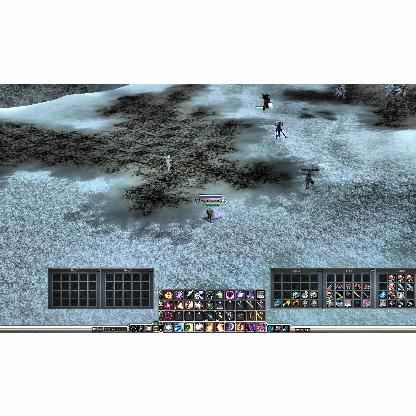caliana: (164, 154, 178, 172), (274, 121, 288, 138), (304, 171, 314, 189)
